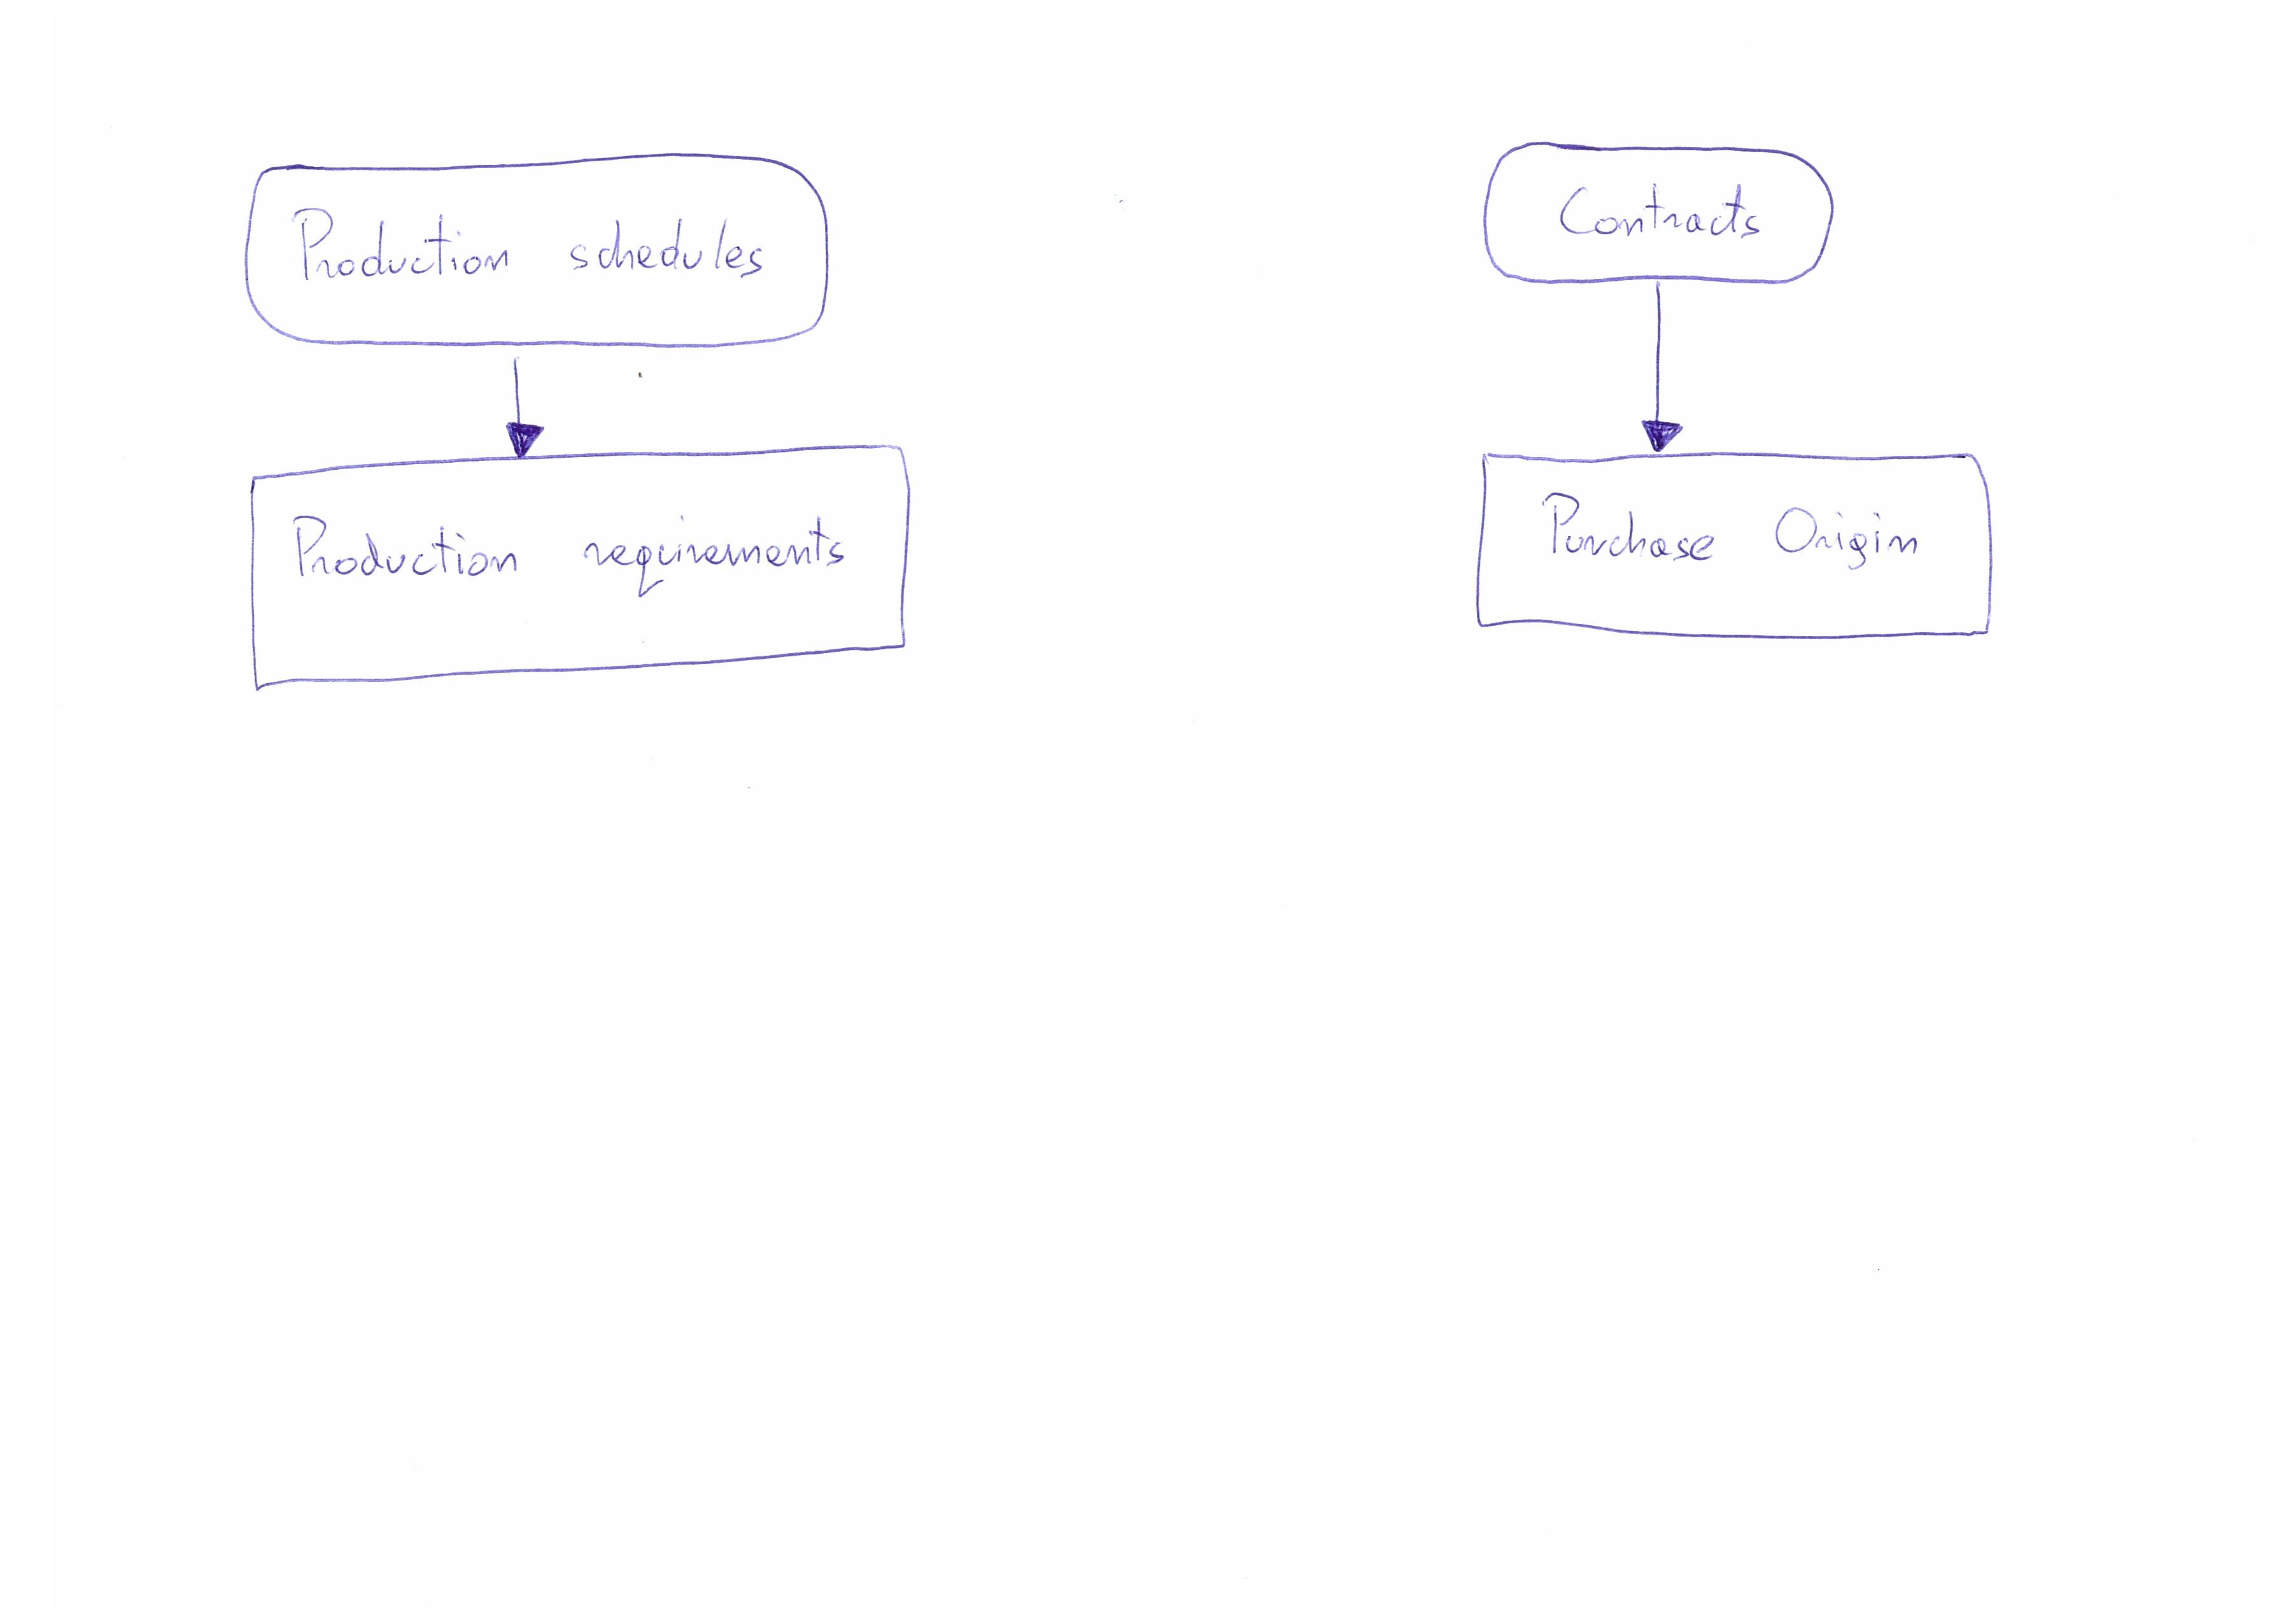arrow_information_requirement: (1632, 278, 1682, 453), (496, 344, 550, 459)
node_decision: (234, 445, 949, 696), (1474, 445, 2017, 652)
node_input_data: (239, 149, 833, 352), (1462, 123, 1845, 290)
text: (281, 499, 870, 605), (279, 197, 782, 301), (1534, 471, 1933, 587), (1548, 167, 1784, 257)
